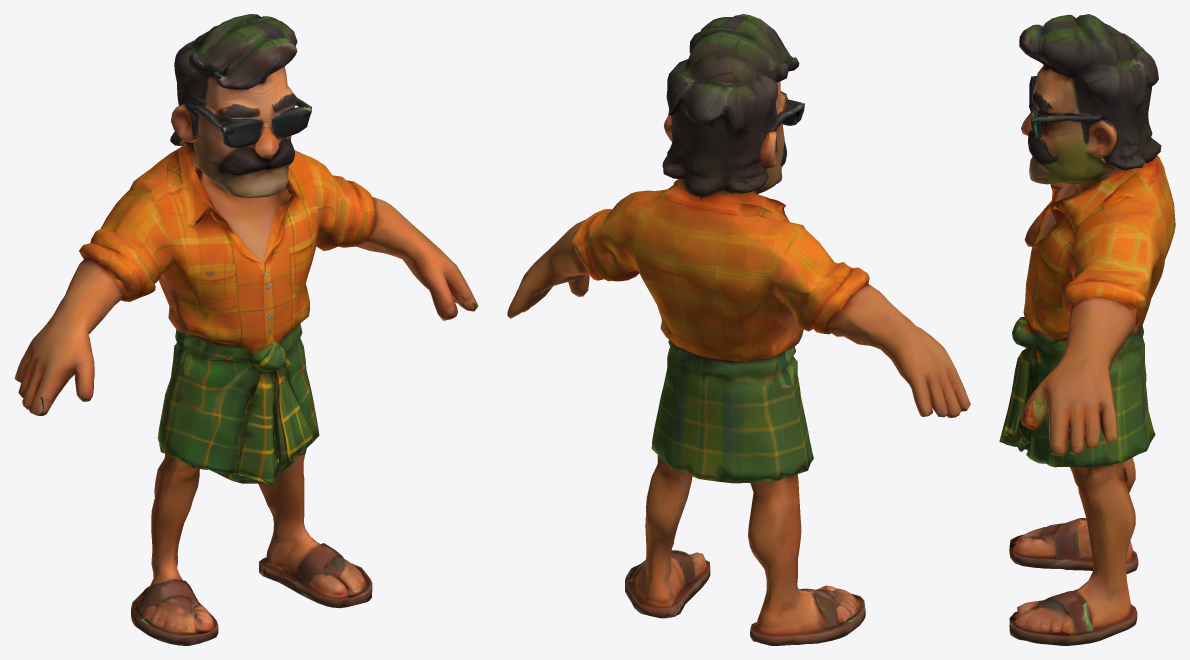
Rendered from lungi_raja.glb.
3 renders of one model, left to right at view 1: azimuth 30°, elevation 25°; view 2: azimuth 150°, elevation 25°; view 3: azimuth 270°, elevation 25°, orthographic.
Parts seen in each view (by area): view 1: Object_4; view 2: Object_4; view 3: Object_4.
Boxes of the visible parts, x1=… form: Object_4: x1=14, y1=14, x2=478, y2=645; Object_4: x1=507, y1=14, x2=970, y2=645; Object_4: x1=999, y1=14, x2=1175, y2=645.
Bounding box in the file's own units: 1.62 × 2 × 0.5581.
1 material, 1 textured.
